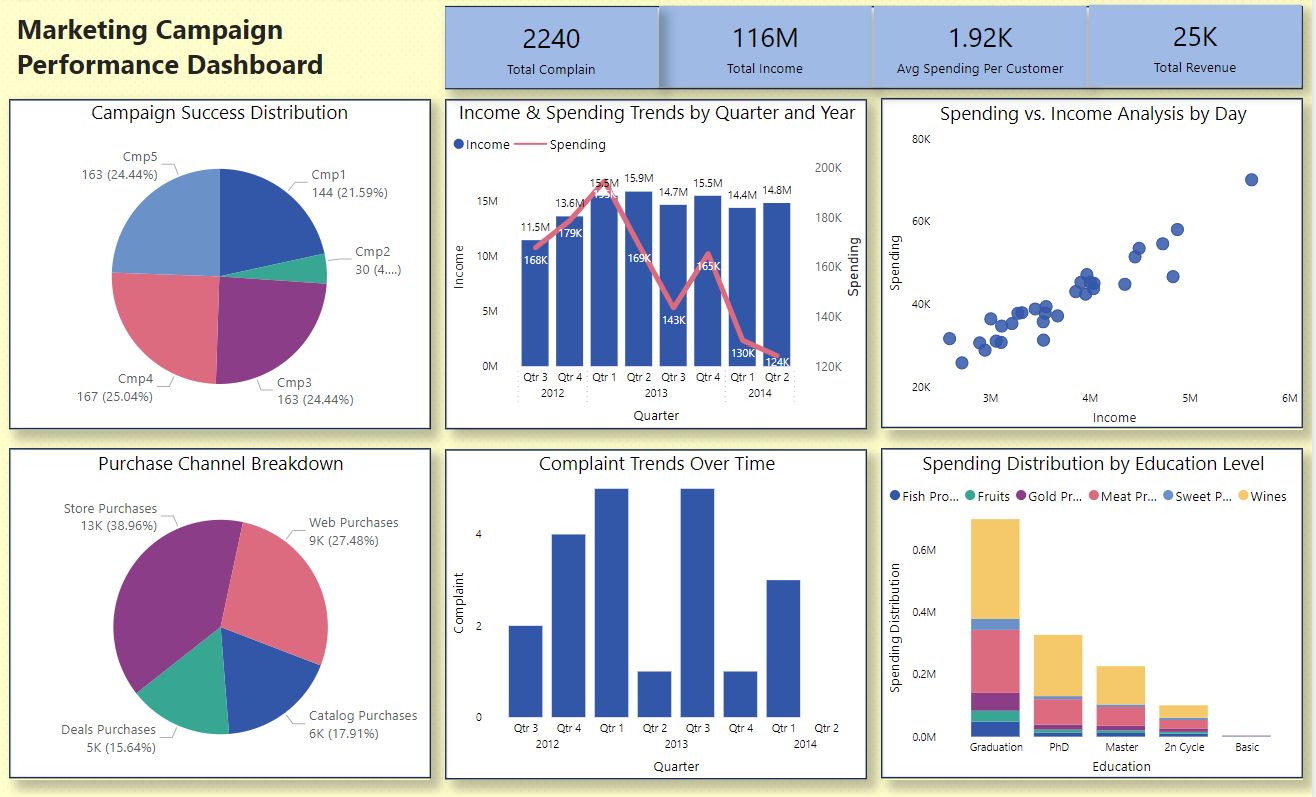

What the dashboard file says about the page in this screenshot:
{"tool":"powerbi","page":{"name":"Page 1","canvas":[1300,800],"ordinal":0},"visuals":[{"type":"textbox","box":[12.4,8.7,385,80],"z":7000},{"type":"pieChart","title":"Campaign Success Distribution","fields":{"Y":["Sum(Data.AcceptedCmp1)","Sum(Data.AcceptedCmp2)","Sum(Data.AcceptedCmp3)","Sum(Data.AcceptedCmp4)","Sum(Data.AcceptedCmp5)"]},"box":[11.1,101.4,414.2,327.7],"z":8000},{"type":"lineClusteredColumnComboChart","title":"Income & Spending Trends by Quarter and Year","fields":{"Y2":["Sum(Data.Spending)"],"Y":["Sum(Data.Income)"],"Category":["Data.Dt_Customer.Variation.Date Hierarchy.Year","Data.Dt_Customer.Variation.Date Hierarchy.Quarter"]},"box":[443.9,101.4,414.2,326.4],"z":9000},{"type":"scatterChart","title":"Spending vs. Income Analysis by Day","fields":{"X":["Sum(Data.Income)"],"Y":["Sum(Data.Spending)"],"Category":["Data.Dt_Customer.Variation.Date Hierarchy.Day"]},"box":[875.4,102.6,414.2,327],"z":10000},{"type":"pieChart","title":"Purchase Channel Breakdown","fields":{"Y":["Sum(Data.NumCatalogPurchases)","Sum(Data.NumDealsPurchases)","Sum(Data.NumStorePurchases)","Sum(Data.NumWebPurchases)"]},"box":[12.4,448.8,414.2,326.4],"z":11000},{"type":"columnChart","title":"Complaint Trends Over Time","fields":{"Y":["Sum(Data.Complain)"],"Category":["Data.Dt_Customer.Variation.Date Hierarchy.Year","Data.Dt_Customer.Variation.Date Hierarchy.Quarter"]},"box":[443.9,448.8,414.2,326.4],"z":12000},{"type":"lineStackedColumnComboChart","title":"Spending Distribution by Education Level","fields":{"Y":["Sum(Data.MntFishProducts)","Sum(Data.MntFruits)","Sum(Data.MntGoldProds)","Sum(Data.MntMeatProducts)","Sum(Data.MntSweetProducts)","Sum(Data.MntWines)"],"Category":["Data.Education"]},"box":[875.4,448.8,414.2,326.4],"z":13000},{"type":"card","fields":{"Values":["Sum(Data.Income)"]},"box":[653,9.9,210.3,80.4],"z":14000},{"type":"card","fields":{"Values":["Data.Avg Spending Per Customer"]},"box":[865.6,9.9,210.3,80.4],"z":15000},{"type":"card","fields":{"Values":["CountNonNull(Data.Complain)"]},"box":[441.6,11.1,210.3,80.4],"z":16000},{"type":"card","fields":{"Values":["Sum(Data.Z_Revenue)"]},"box":[1078.2,8.7,210.2,80.4],"z":17000}]}

Visuals, with their boxes in screenshot pixels (x1, y1, x2, y2), scaled from the page's 1300x800 canvas onto the 1316x797 screenshot:
textbox: x1=13, y1=9, x2=402, y2=88
"Campaign Success Distribution" pieChart: x1=11, y1=101, x2=431, y2=427
"Income & Spending Trends by Quarter and Year" lineClusteredColumnComboChart: x1=449, y1=101, x2=869, y2=426
"Spending vs. Income Analysis by Day" scatterChart: x1=886, y1=102, x2=1305, y2=428
"Purchase Channel Breakdown" pieChart: x1=13, y1=447, x2=432, y2=772
"Complaint Trends Over Time" columnChart: x1=449, y1=447, x2=869, y2=772
"Spending Distribution by Education Level" lineStackedColumnComboChart: x1=886, y1=447, x2=1305, y2=772
card - Sum(Data.Income): x1=661, y1=10, x2=874, y2=90
card - Data.Avg Spending Per Customer: x1=876, y1=10, x2=1089, y2=90
card - CountNonNull(Data.Complain): x1=447, y1=11, x2=660, y2=91
card - Sum(Data.Z_Revenue): x1=1091, y1=9, x2=1304, y2=89
